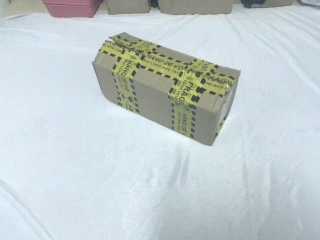box: (91, 32, 242, 148), (152, 1, 239, 15), (100, 1, 153, 15)
